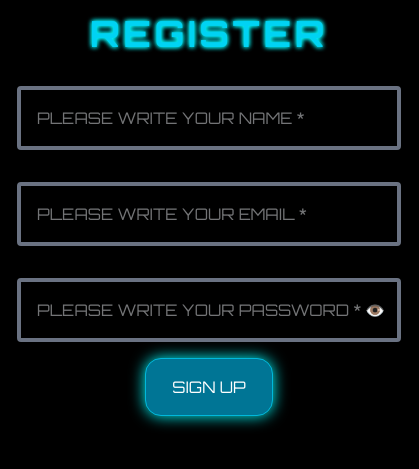
Test: SignUp › shows backend error and does not navigate when sign up fails
Type "Alex" into the field with placeholder "Please write your name *" at (209, 118), box [17,86,401,150]
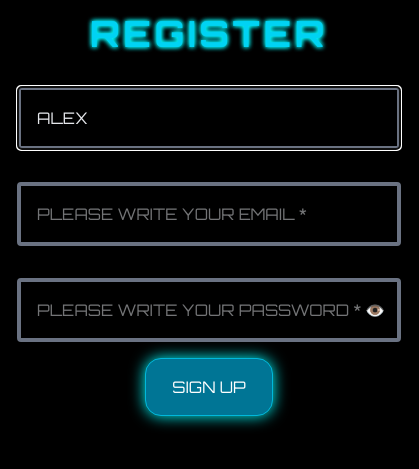
Type "alex@example.com" into the field with placeholder "Please write your email *" at (209, 214), box [17,182,401,246]
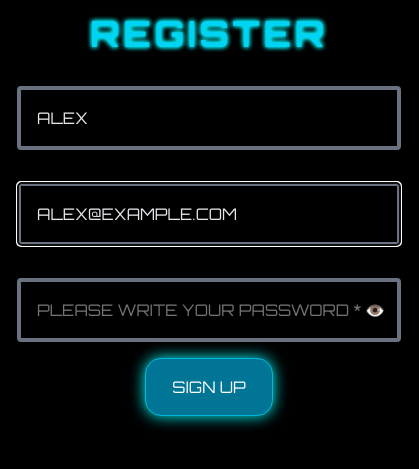
Type "Space123" into the password field with placeholder "Please write your password *" at (209, 310), box [17,278,401,342]
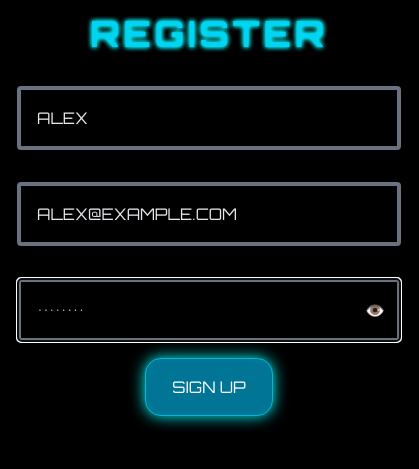
Click the button "Sign Up" at (209, 387), box [145,358,273,416]
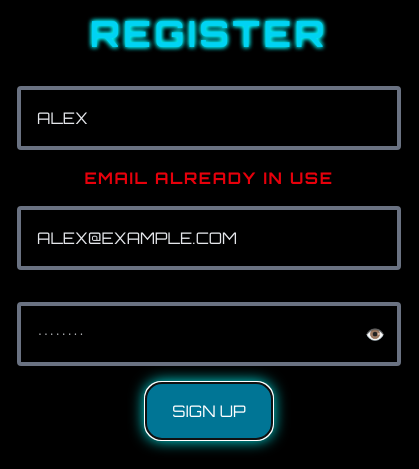
Now the text "Email already in use" is shown, box [84,168,334,188]
